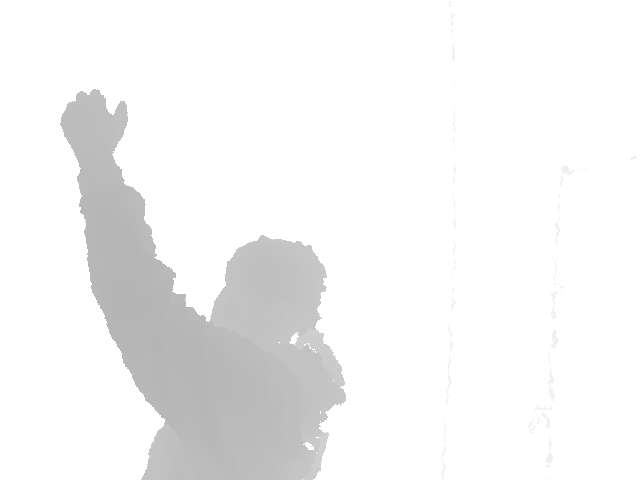hand: (60, 90, 130, 159)
head: (208, 234, 328, 349)
person: (60, 89, 348, 480)
